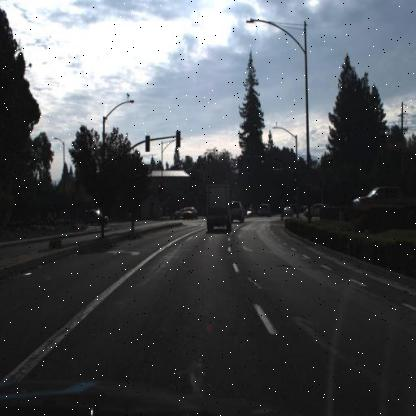car: (349, 186, 414, 216), (202, 178, 236, 235), (82, 206, 110, 228), (80, 208, 110, 228), (301, 201, 329, 220), (230, 198, 246, 224), (257, 201, 272, 220), (182, 206, 199, 222), (281, 203, 294, 221)
truck: (205, 181, 233, 236)
